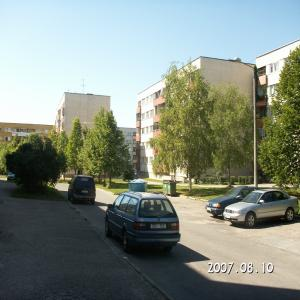Vehicle-registration-plate: (152, 225, 167, 230)
